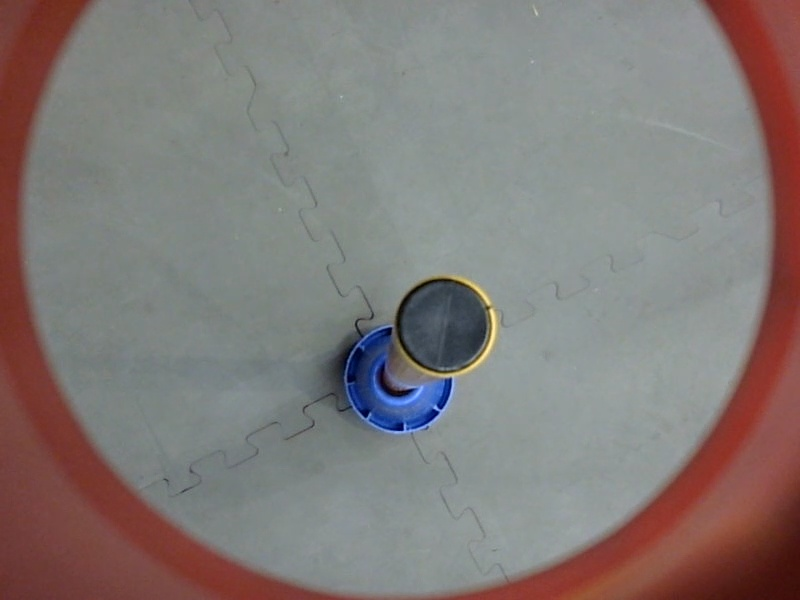tip: (386, 271, 503, 381)
